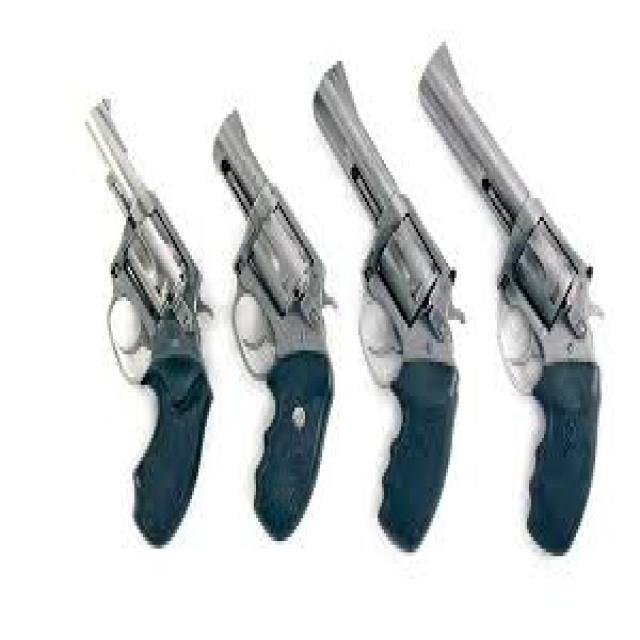Gun: (379, 7, 618, 537), (280, 53, 468, 542), (56, 80, 230, 518), (188, 80, 338, 558)
